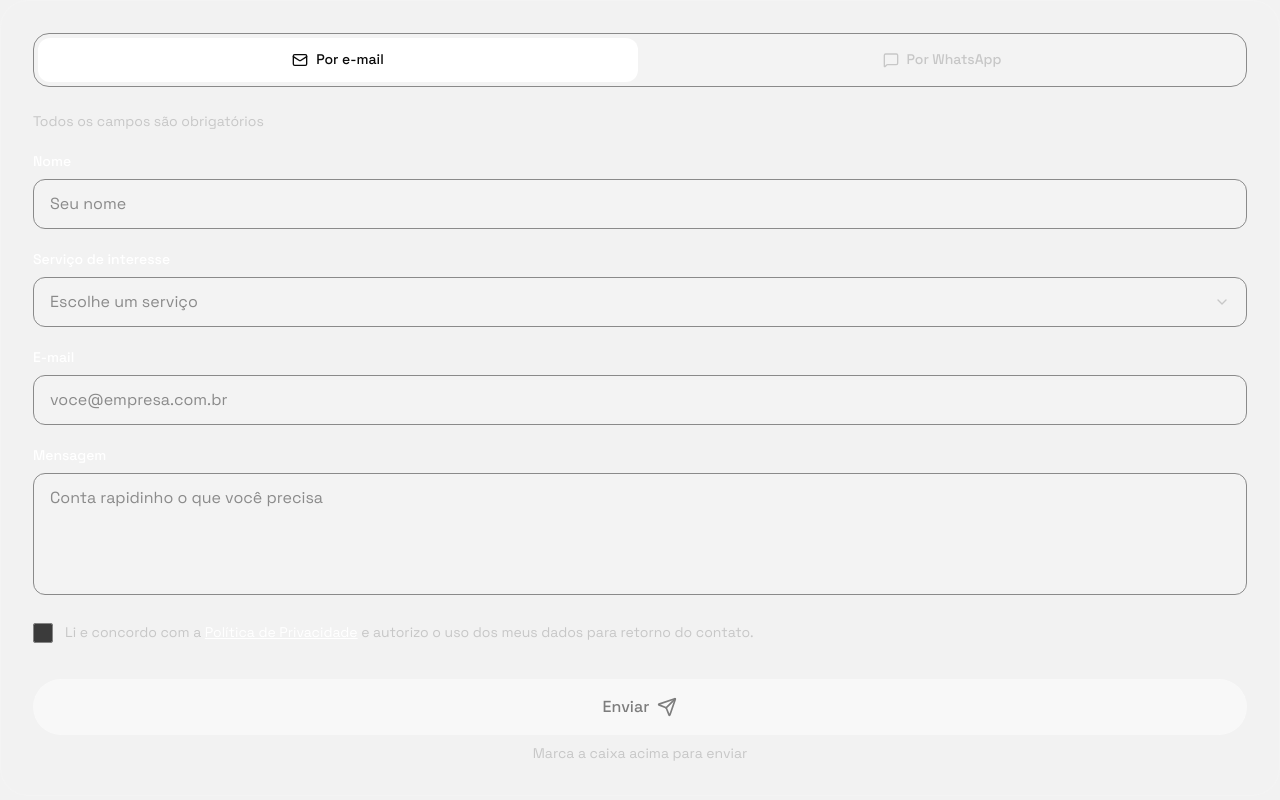
Test: ContactForm sending, success and error › shows the error with the WhatsApp link on the words fala direto pelo WhatsApp
Later steps or results of the test are not shown.
Type "Ana Lima" into the field labelled "Nome" at x=640, y=204, box [33,179,1247,229]
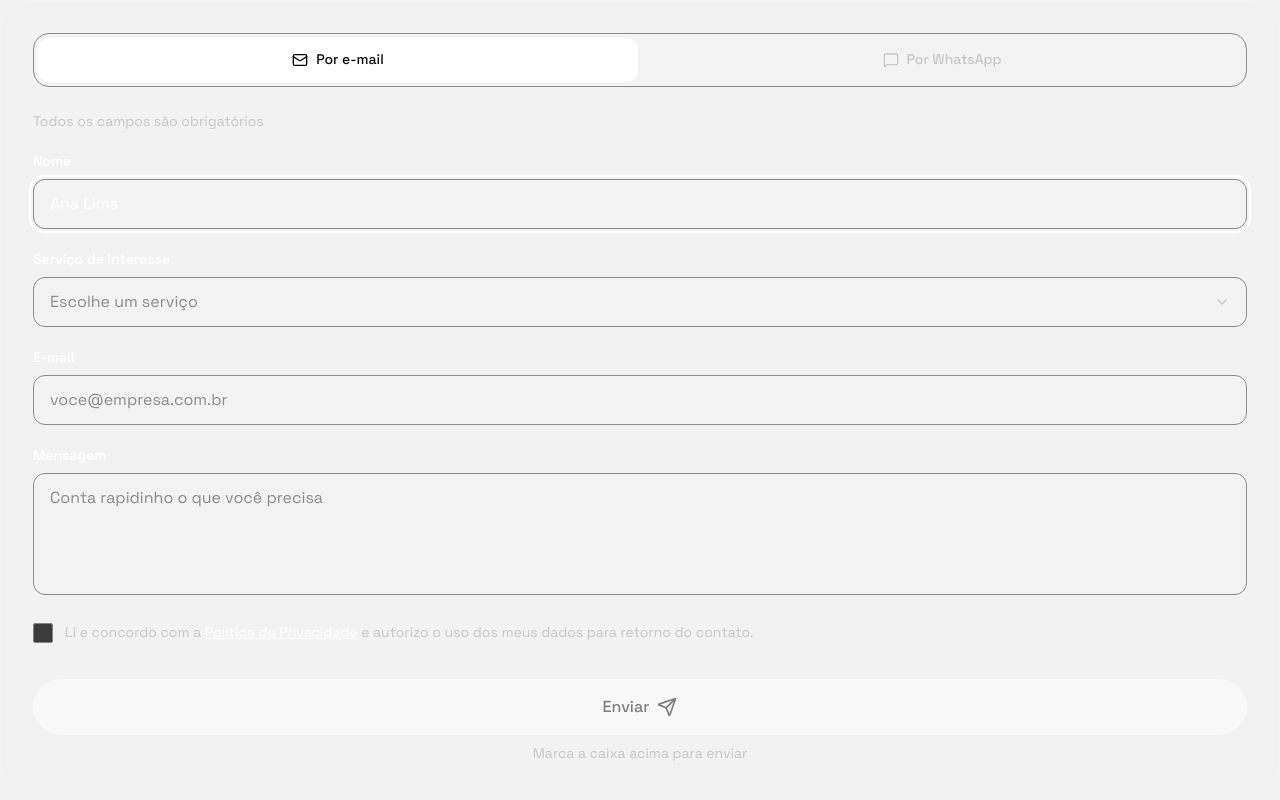
Click the button "Escolhe um serviço" at x=124, y=302, box [33,277,1247,327]
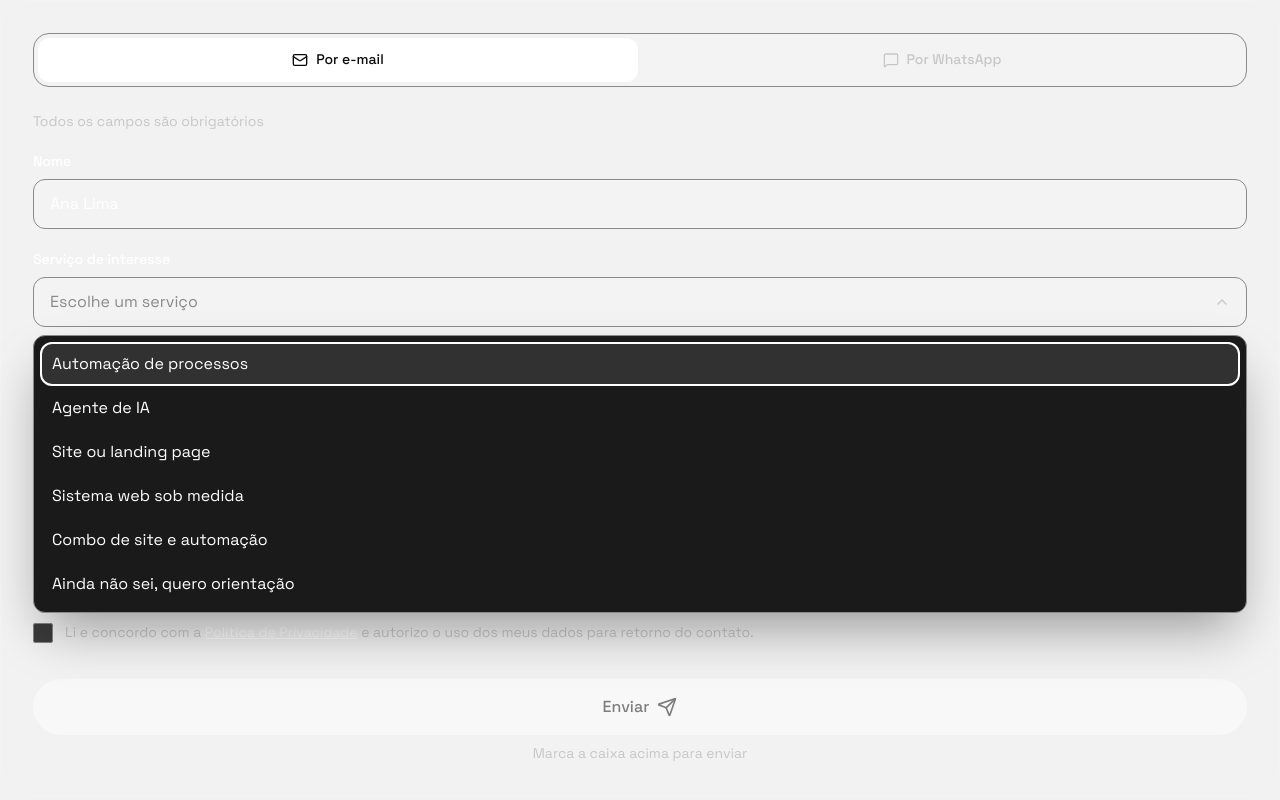
Click the option "Automação de processos" at x=150, y=364, box [40,342,1240,386]
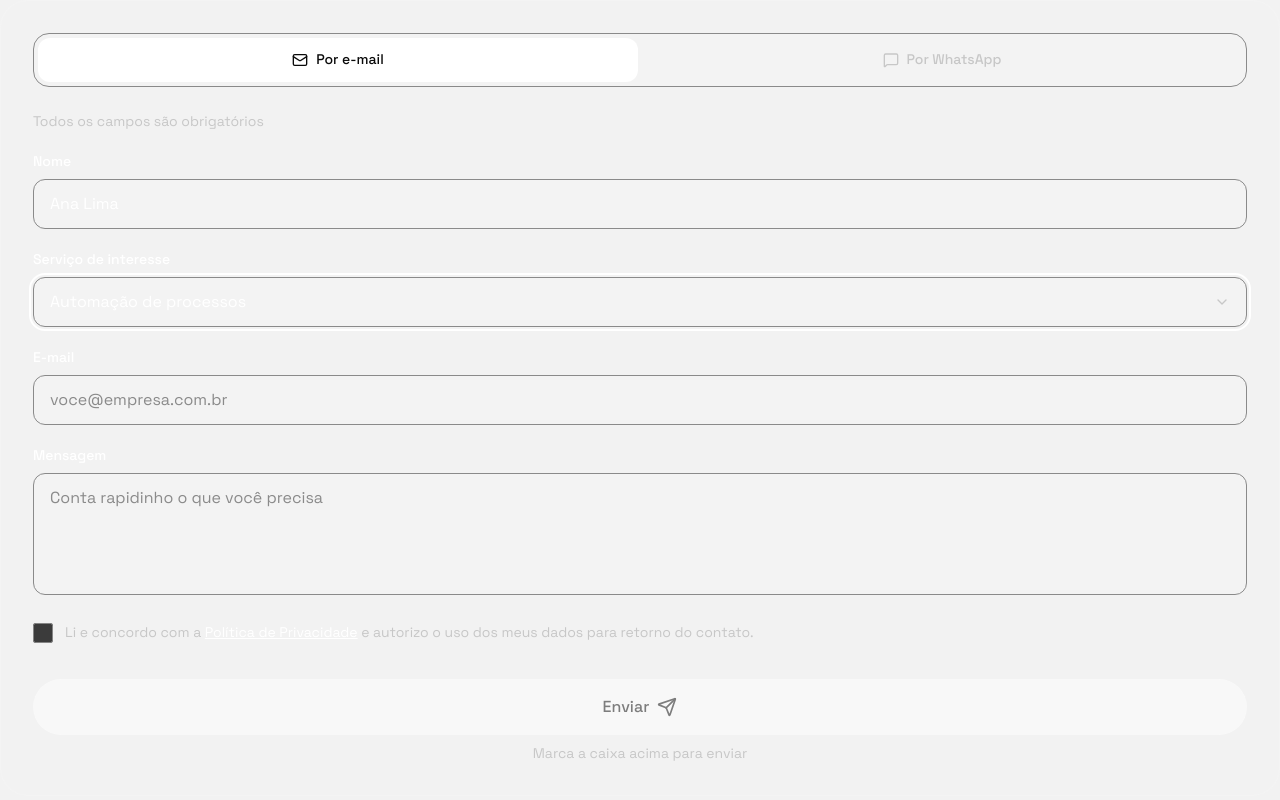
Expected: the list is gone
